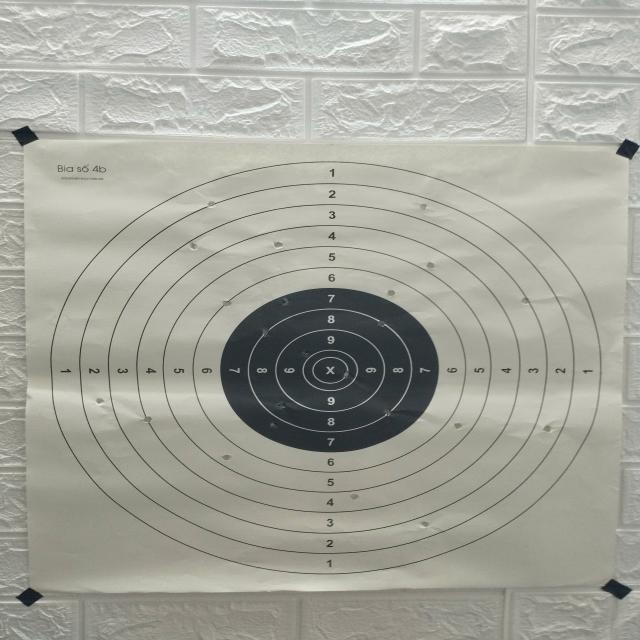bullet: (141, 416, 153, 425), (280, 297, 289, 306), (420, 520, 430, 528), (221, 454, 232, 461), (301, 350, 310, 358), (343, 370, 351, 379), (425, 262, 435, 269), (275, 402, 286, 408), (189, 243, 198, 250), (543, 425, 552, 432), (350, 493, 359, 500), (387, 289, 395, 296), (262, 328, 269, 336), (521, 297, 529, 304), (274, 242, 283, 248), (378, 321, 387, 327), (383, 409, 390, 416), (207, 201, 215, 207), (223, 300, 231, 306), (454, 423, 462, 429), (96, 398, 104, 404), (420, 204, 427, 210), (270, 422, 277, 428)
target: (25, 140, 627, 594)
